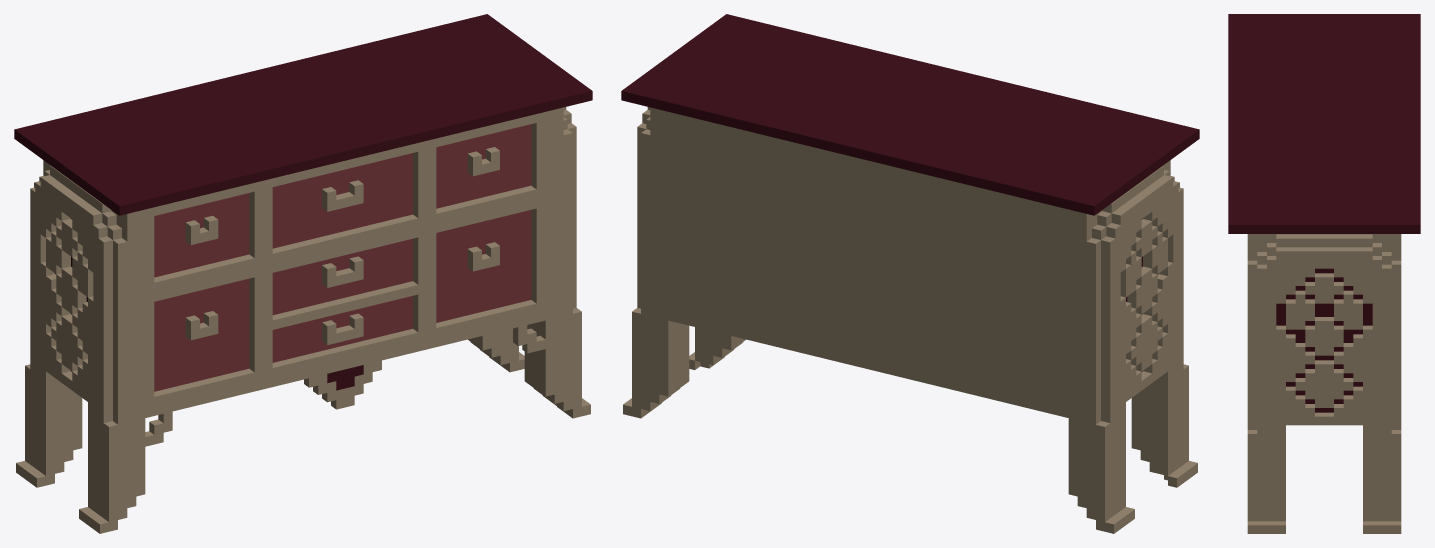
Rendered from Commode 2.obj.
3 renders of one model, left to right at view 1: azimuth 30°, elevation 25°; view 2: azimuth 150°, elevation 25°; view 3: azimuth 270°, elevation 25°, orthographic. The views are drawn at different scales.
Visible parts, largest first — view 1: Commode 2; view 2: Commode 2; view 3: Commode 2.
Boxes of the visible parts, <box> form: Commode 2: <box>14,14,592,533</box>; Commode 2: <box>621,14,1199,533</box>; Commode 2: <box>1228,14,1420,533</box>.
Bounding box in the file's own units: 54 × 35 × 20.
1 material, 1 textured.
